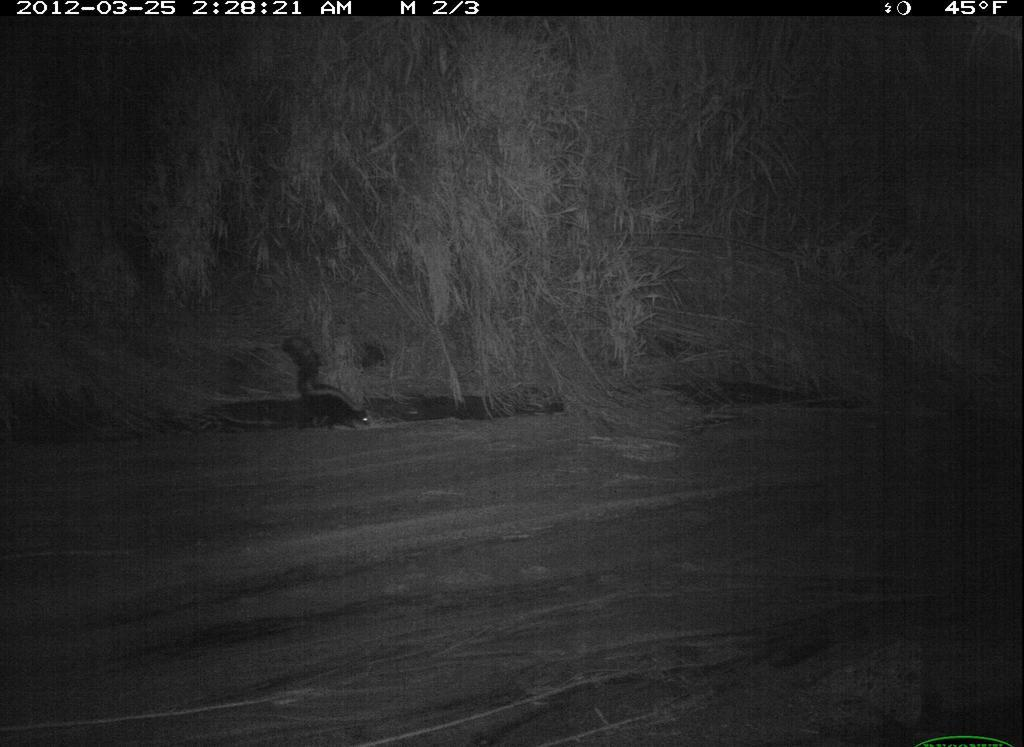skunk: (274, 319, 383, 437)
